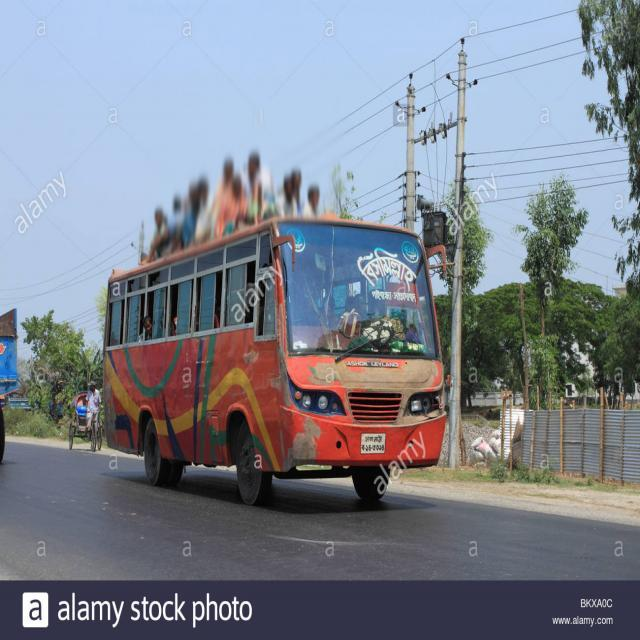bus: (100, 211, 447, 506)
